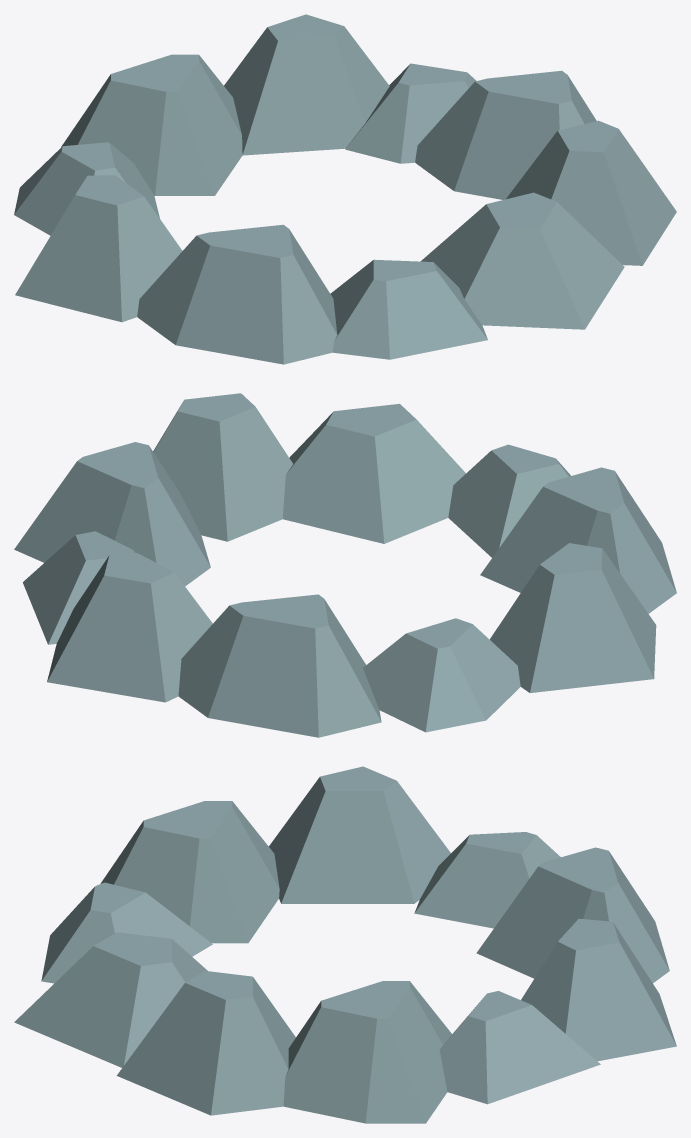
Rendered from campfire_stones.glb.
3 views of the same model, one above another, from view 1: azimuth 30°, elevation 25°; view 2: azimuth 150°, elevation 25°; view 3: azimuth 270°, elevation 25° (orthographic). The views are drawn at different scales.
Parts seen in each view (by area): view 1: campfire_stones; view 2: campfire_stones; view 3: campfire_stones.
Part boxes in pixels (bbox=[...]): campfire_stones: bbox=[14, 14, 676, 364]; campfire_stones: bbox=[14, 393, 676, 737]; campfire_stones: bbox=[14, 766, 676, 1123].
Bounding box in the file's own units: 0.5408 × 0.0778 × 0.5155.
